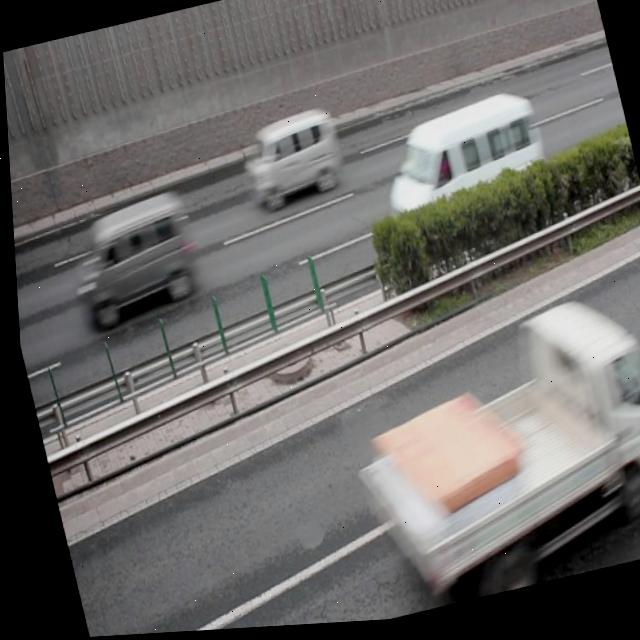bus: (324, 291, 640, 624)
truck: (366, 92, 553, 251), (54, 190, 202, 334), (232, 107, 345, 216)
